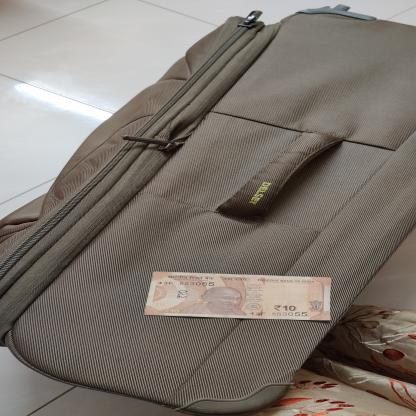New10Front: (142, 268, 338, 322)
